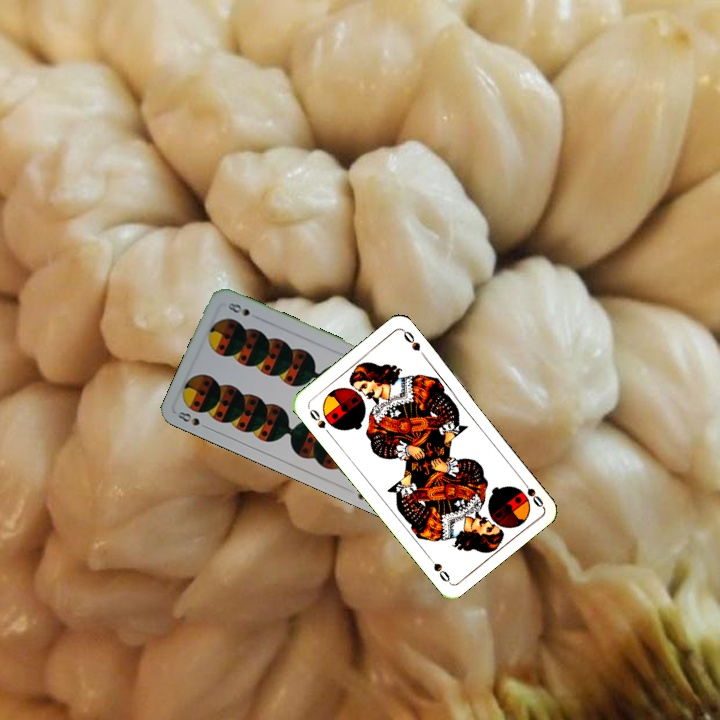S8: (174, 407, 212, 432)
SO: (516, 474, 546, 510), (305, 405, 333, 438)
